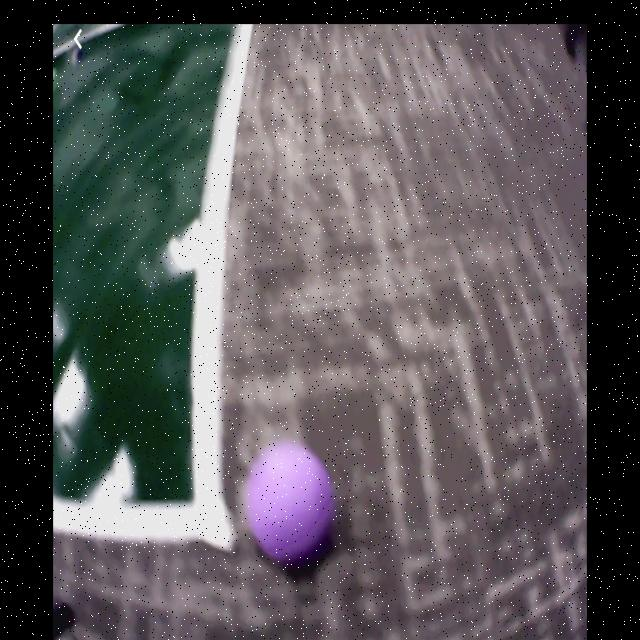ball: (248, 445, 335, 562)
